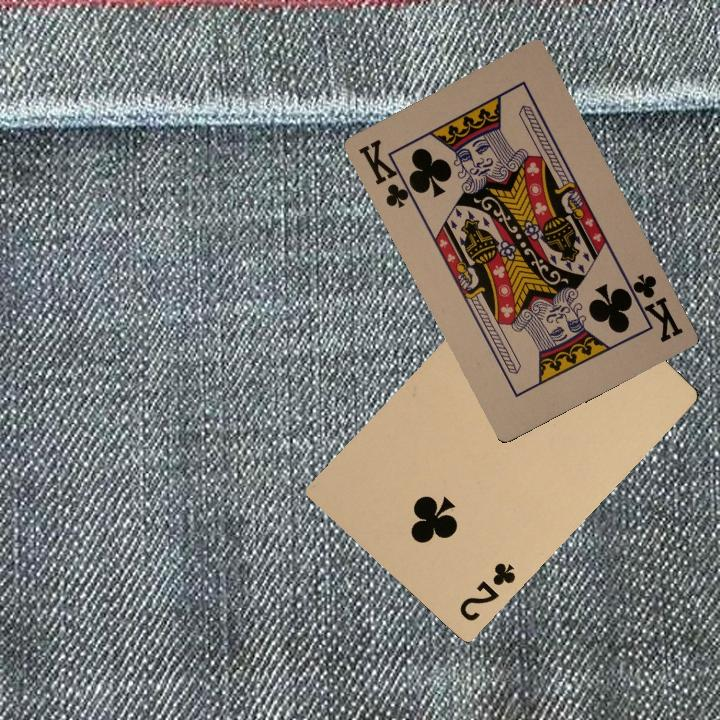2c: (455, 558, 519, 624)
Kc: (353, 135, 420, 211), (621, 269, 686, 345)
